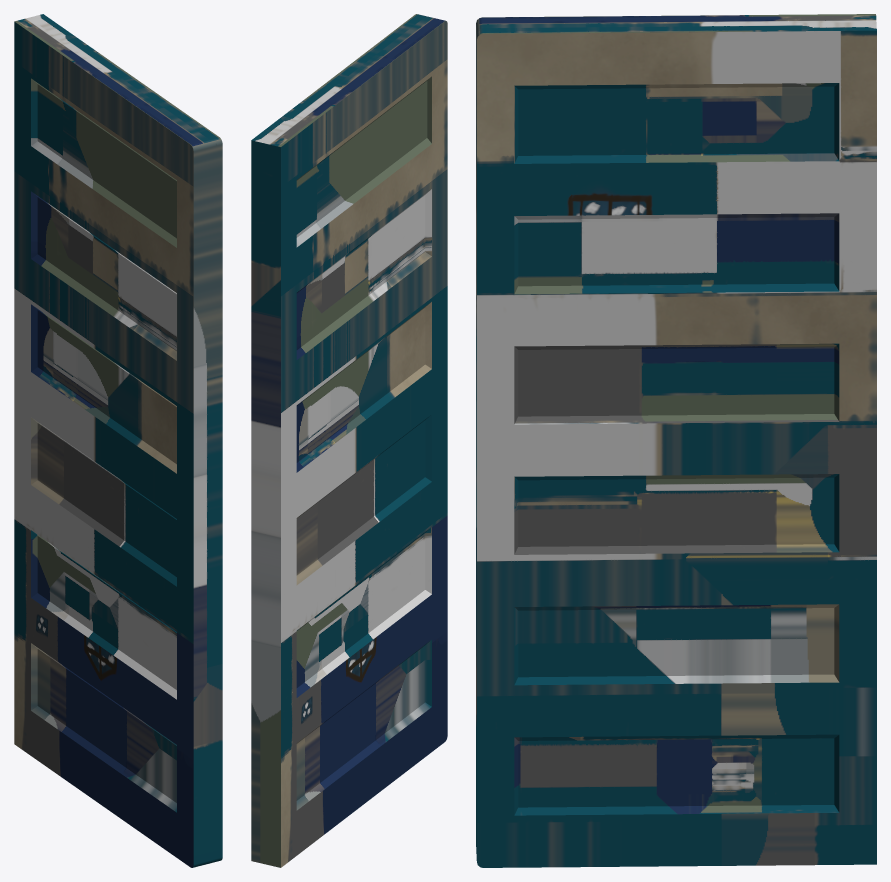
The model's file is KnitneyBathroomDoor.fbx.
The picture shows the model from 3 angles, left to right: view 1: azimuth 30°, elevation 25°; view 2: azimuth 150°, elevation 25°; view 3: azimuth 270°, elevation 25°; orthographic projection. The views are drawn at different scales.
Parts seen in each view (by area): view 1: BathroomDoor1; view 2: BathroomDoor1; view 3: BathroomDoor1.
Part boxes in pixels (x1,y1,x2,y2): BathroomDoor1: (14, 14, 222, 867); BathroomDoor1: (251, 14, 447, 867); BathroomDoor1: (476, 14, 876, 867).
Size of the model in its own units: 0.3429 by 6.68 by 2.91.
